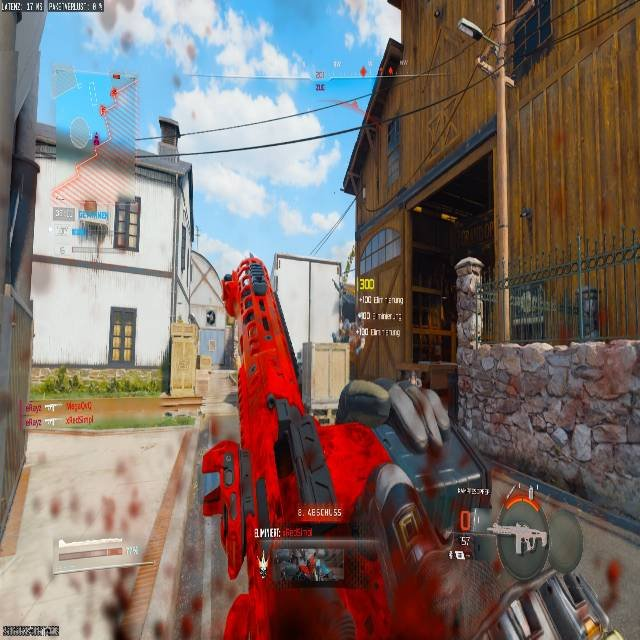head: (335, 382, 389, 431)
player: (226, 385, 458, 639), (331, 279, 357, 338), (206, 309, 216, 325)
